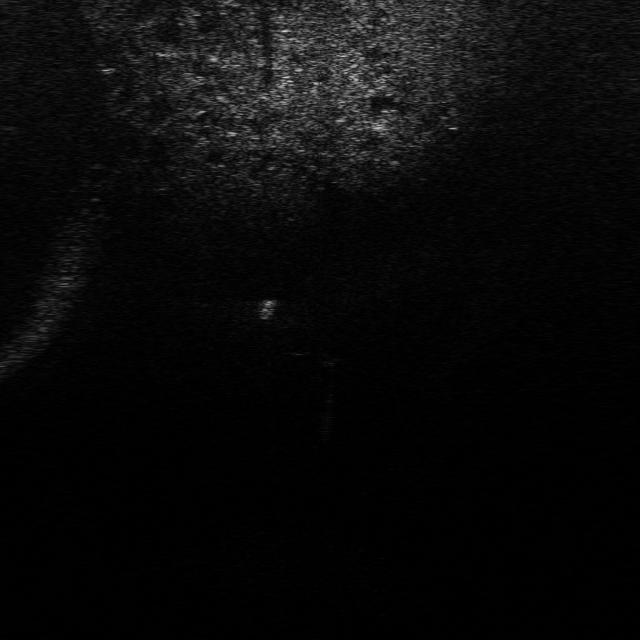cube: (308, 338, 351, 368)
cylinder: (253, 292, 278, 324)
